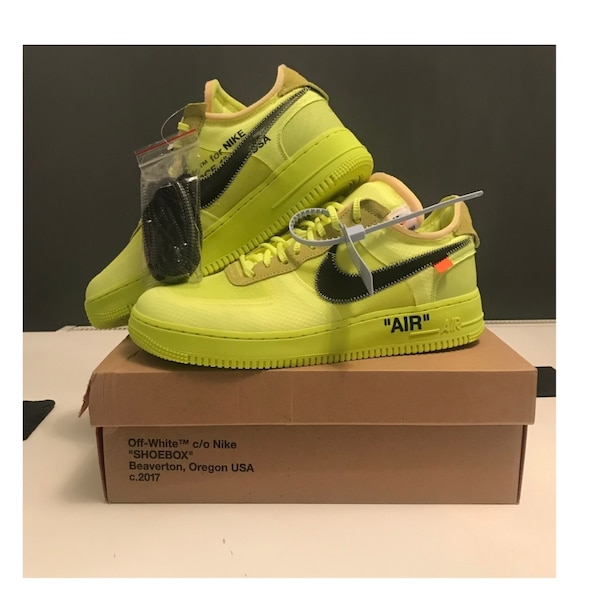Air Force One Volt: (81, 65, 376, 332), (126, 170, 503, 375)
